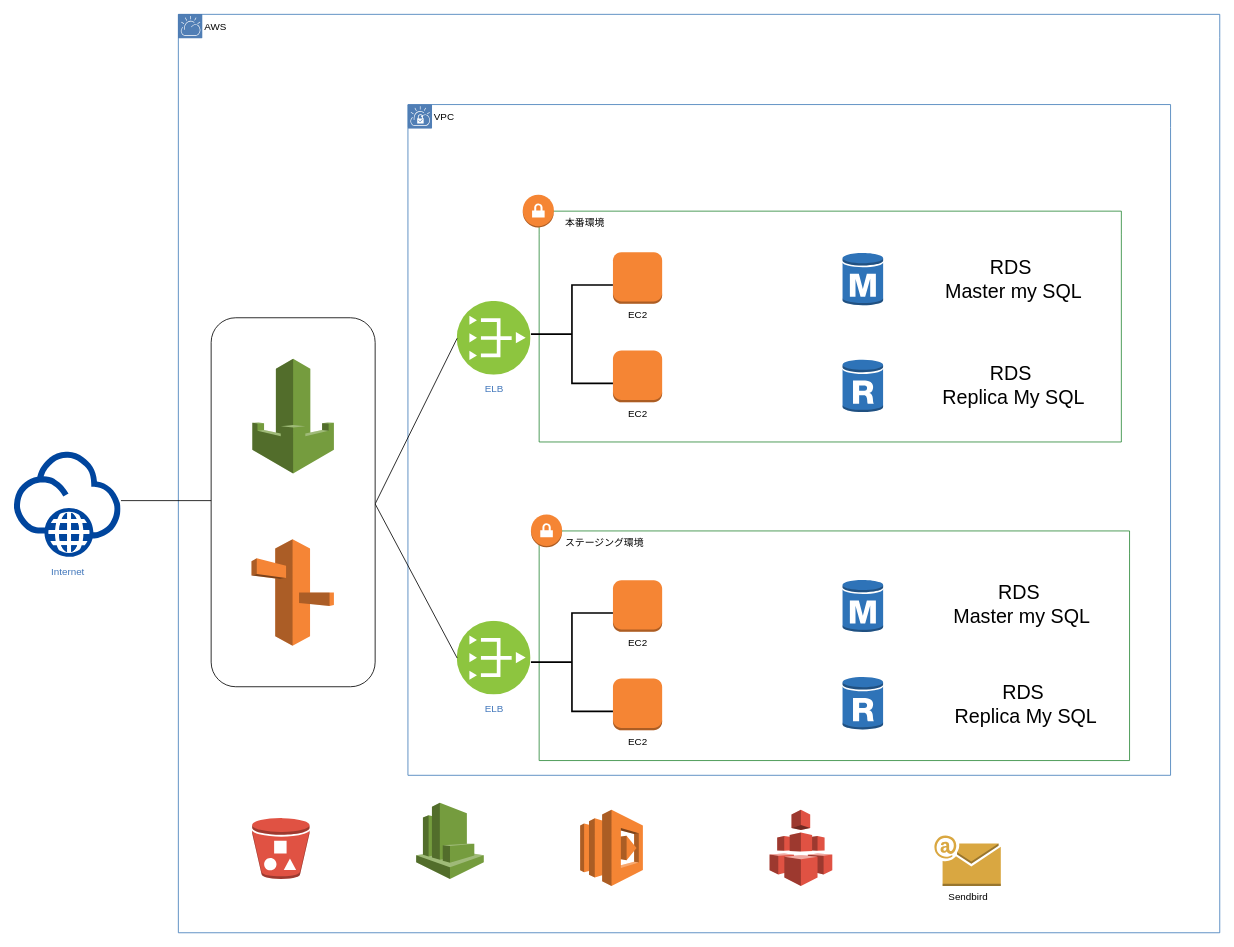
The diagram is 1234 pixels wide and 947 high, and some of its shapes have lost their labels. The centre of each missing label's shape, as x and y in pixels:
"Cloundwatch" goes at point 449,840.
"EFS" goes at point 800,847.
"Lambda" goes at point 611,847.
"Route 53" goes at point 292,592.
"S3" goes at point 280,848.
"WAF" goes at point 292,416.
